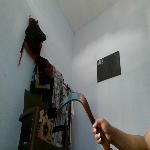Celurit: (46, 84, 114, 150)
